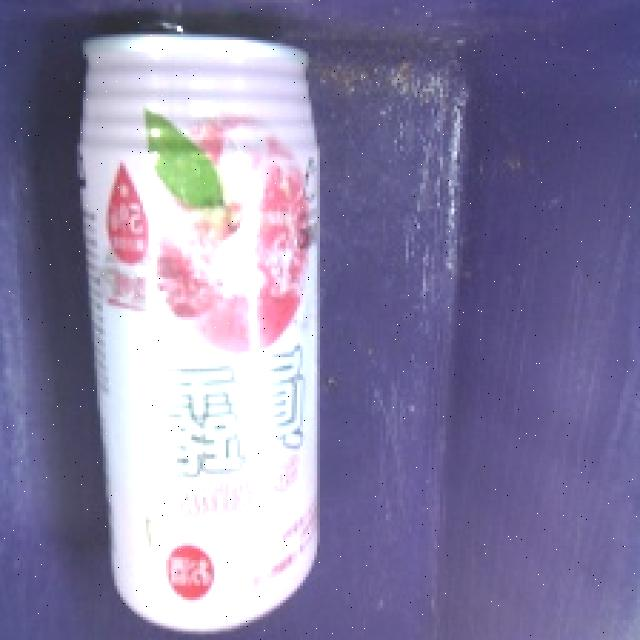metal: (52, 6, 361, 640)
